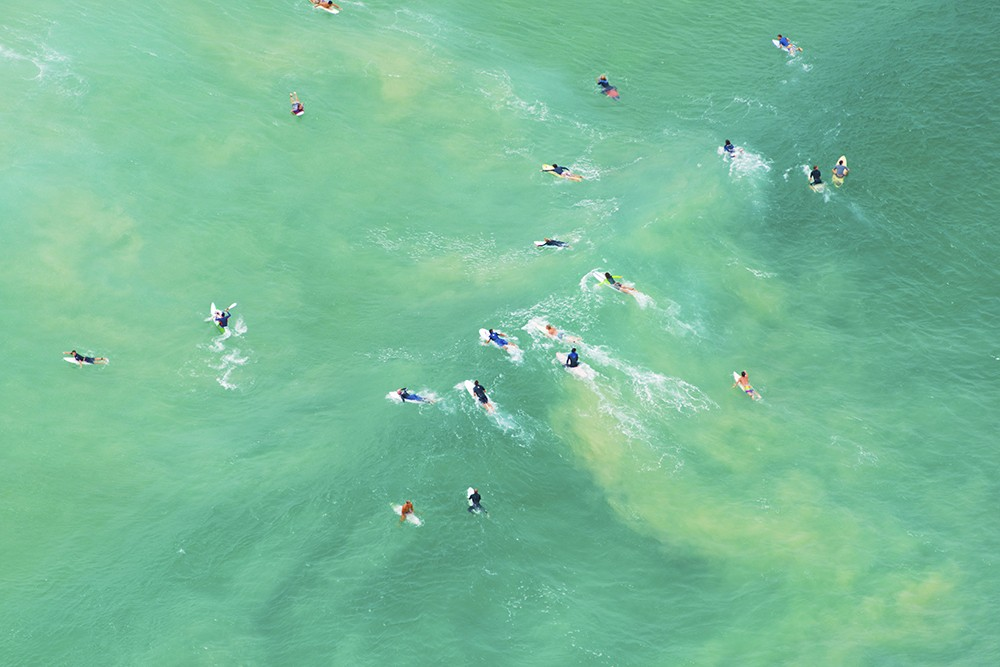people: (471, 382, 501, 409), (63, 348, 107, 366), (834, 158, 856, 193), (603, 271, 638, 292), (211, 306, 239, 332), (546, 162, 584, 181), (734, 370, 758, 398), (538, 324, 573, 342), (466, 491, 493, 514), (774, 35, 805, 55), (485, 328, 512, 349), (562, 350, 584, 371), (596, 77, 619, 97), (395, 387, 428, 400), (722, 140, 743, 158), (542, 236, 566, 249), (399, 497, 413, 519), (292, 100, 308, 116), (807, 166, 821, 184)
